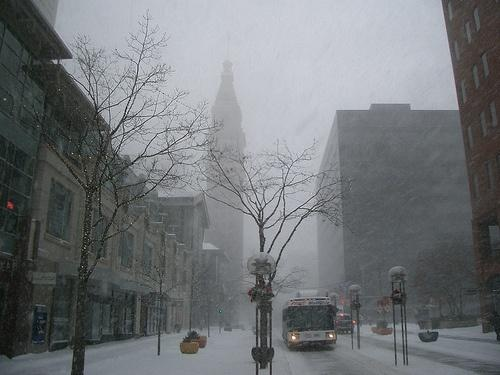bus: (281, 295, 338, 354)
car: (335, 315, 357, 337)
